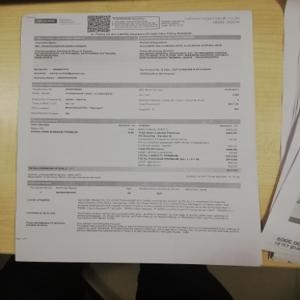image: (33, 15, 58, 24)
table: (23, 179, 242, 236), (29, 116, 240, 172), (33, 34, 241, 80), (32, 82, 242, 116)
